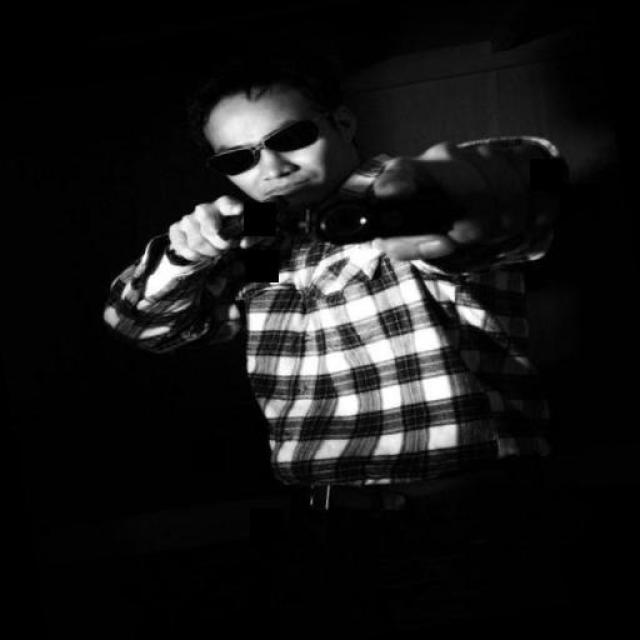gun: (294, 172, 462, 258), (200, 186, 291, 249)
